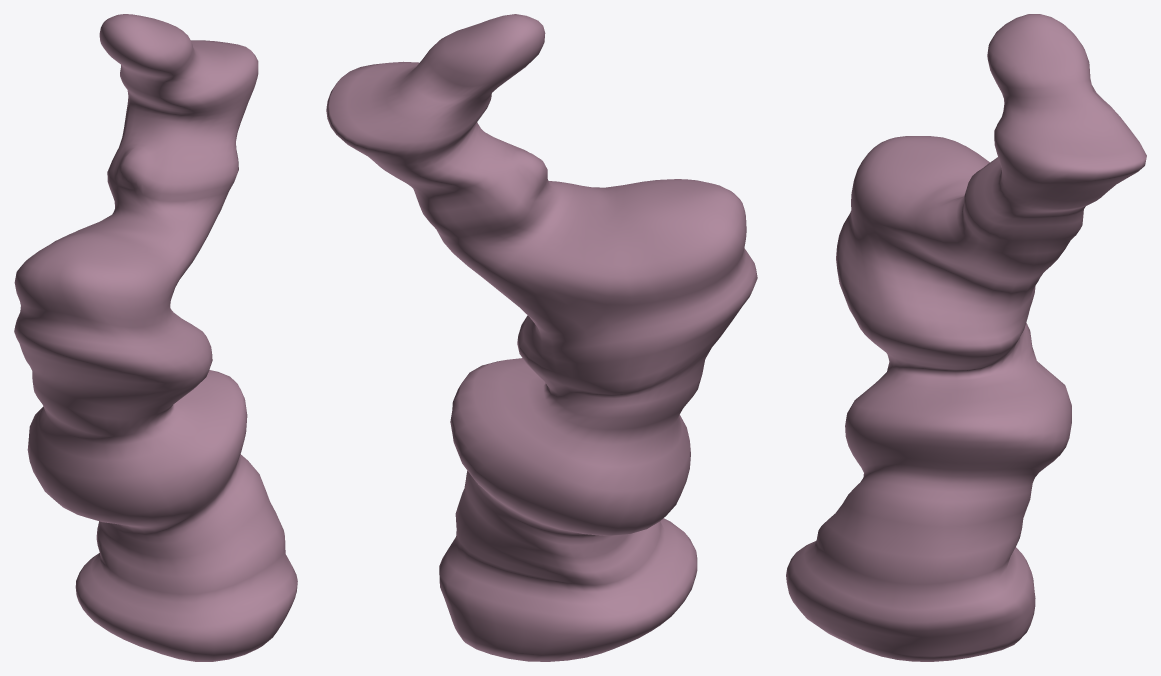
Rendered from Carl_stump.fbx.
3 views of the same model, side by side, from view 1: azimuth 30°, elevation 25°; view 2: azimuth 150°, elevation 25°; view 3: azimuth 270°, elevation 25° (orthographic). The views are drawn at different scales.
Parts seen in each view (by area): view 1: Stolpe; view 2: Stolpe; view 3: Stolpe.
Boxes of the visible parts, x1,y1,x2,y2 form: Stolpe: [14, 14, 297, 661]; Stolpe: [326, 14, 757, 661]; Stolpe: [786, 14, 1146, 661].
Size of the model in its own units: 90.49 by 171 by 92.33.
